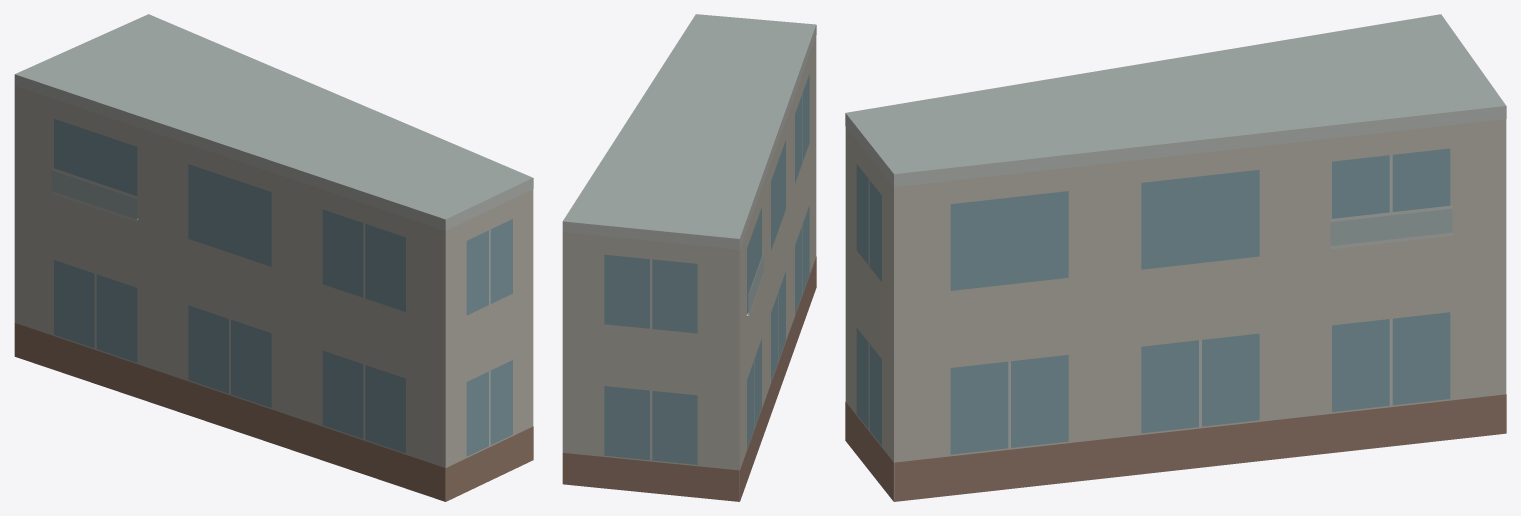
File: survey-upis-32513868.glb
3 renders of one model, left to right at view 1: azimuth 30°, elevation 25°; view 2: azimuth 150°, elevation 25°; view 3: azimuth 270°, elevation 25°, orthographic. The views are drawn at different scales.
Visible parts, largest first — view 1: survey-upis-32513868.tmp; view 2: survey-upis-32513868.tmp; view 3: survey-upis-32513868.tmp.
Part boxes in pixels (x1,y1,x2,y2): survey-upis-32513868.tmp: (14, 14, 533, 501); survey-upis-32513868.tmp: (562, 14, 816, 501); survey-upis-32513868.tmp: (845, 14, 1506, 501).
Bounding box in the file's own units: 6.41 × 6.1 × 11.17.
